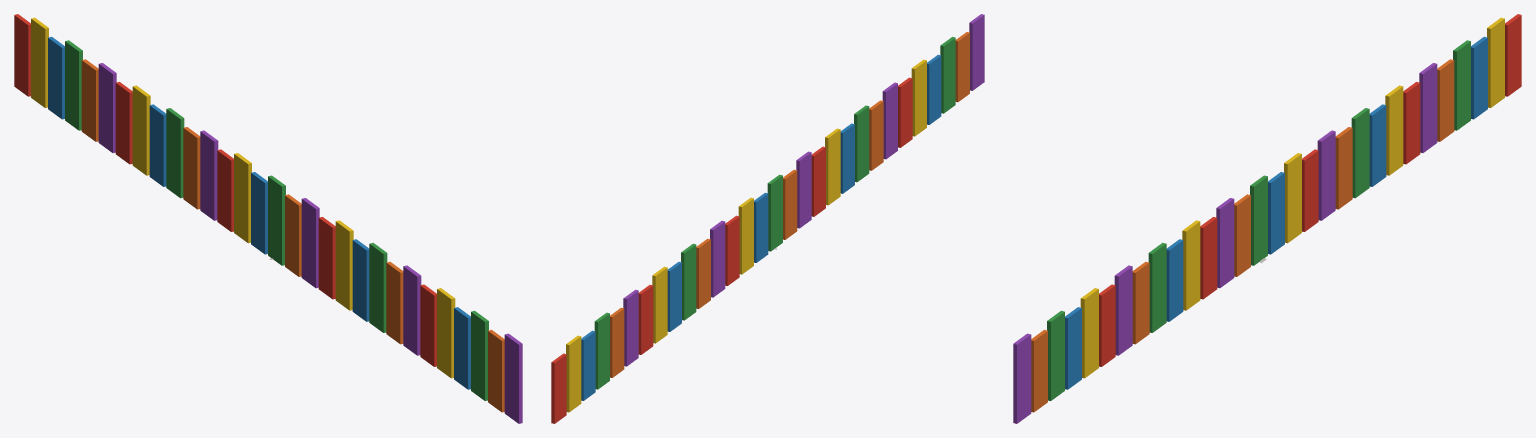
File: tdb_fence.glb
3 renders of one model, left to right at view 1: azimuth 30°, elevation 25°; view 2: azimuth 150°, elevation 25°; view 3: azimuth 330°, elevation 25°, orthographic. The views are drawn at different scales.
Parts seen in each view (by area): view 1: tdb_fence_lod0; view 2: tdb_fence_lod0; view 3: tdb_fence_lod0.
Part boxes in pixels (box(x1,y1,x2,y2)): tdb_fence_lod0: box(14, 14, 522, 423); tdb_fence_lod0: box(551, 14, 984, 423); tdb_fence_lod0: box(1013, 14, 1521, 423).
Size of what is drawn, in the model's own units: 0.201 by 2.17 by 17.9.
